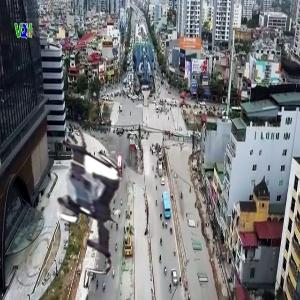drone: (25, 140, 153, 268)
